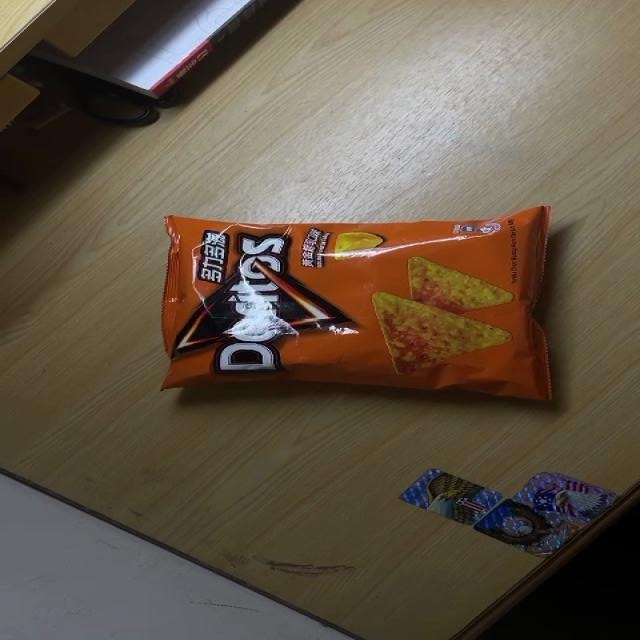Doritos: (158, 204, 556, 402)
